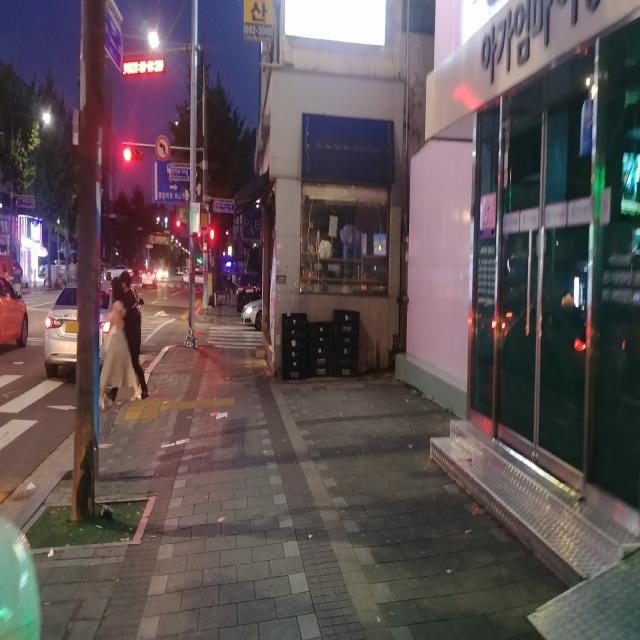빨간불: (209, 228, 215, 246)
횡단보도: (206, 326, 262, 348)
